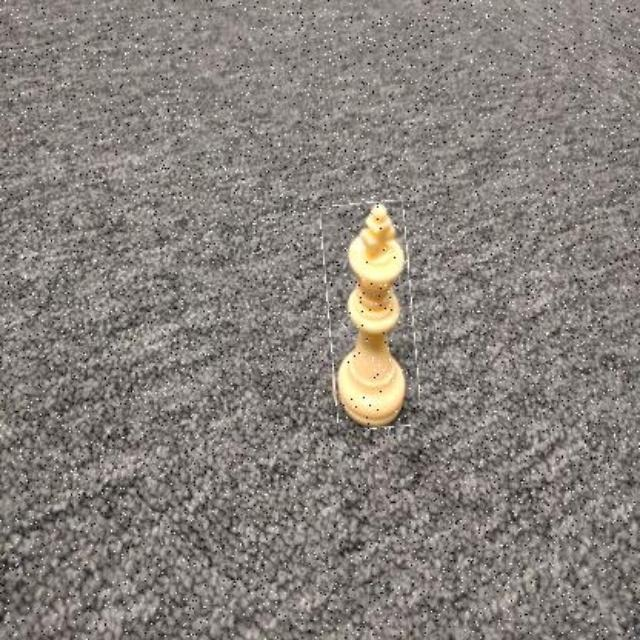white-king: (325, 201, 417, 428)
